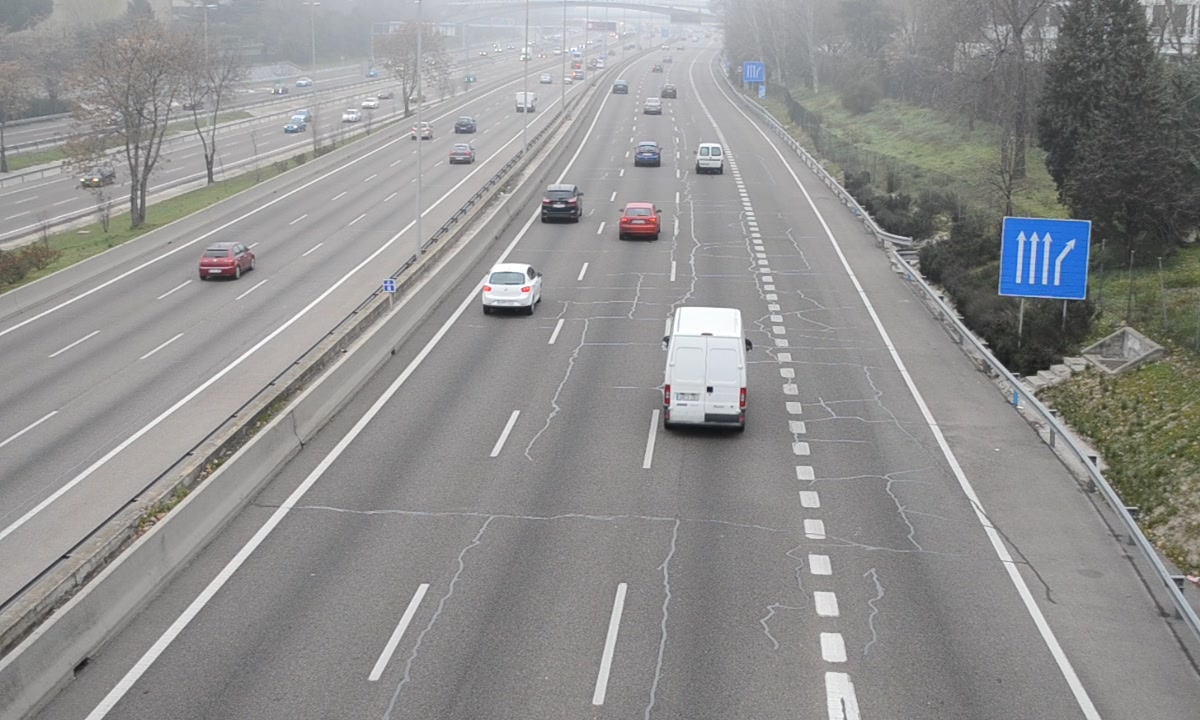car: (481, 264, 543, 309), (541, 182, 582, 224), (619, 202, 662, 241), (633, 141, 662, 168)
van: (665, 308, 747, 430), (695, 141, 726, 177)
